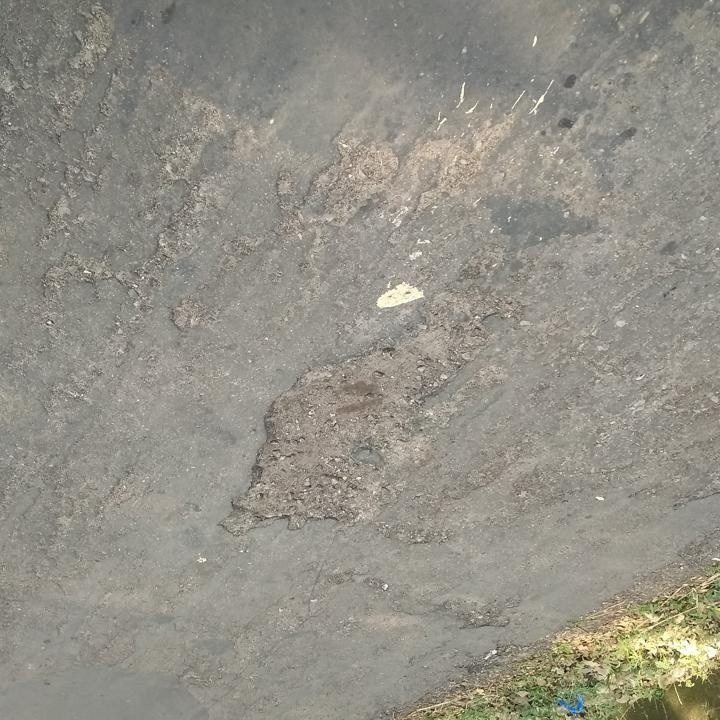pothole: (220, 325, 470, 539), (450, 598, 513, 635)
